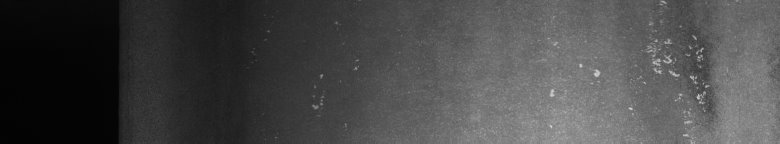hc: (550, 4, 711, 136)
